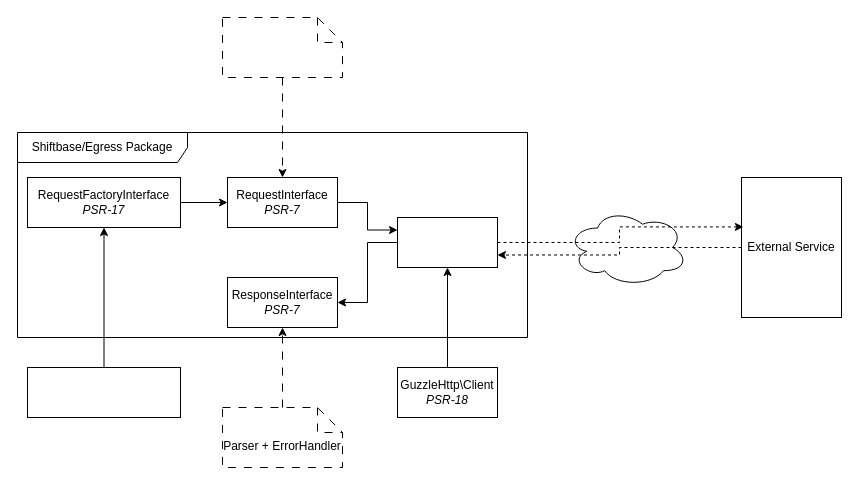
Image size: 859x485. Some labels were removed from this diagram. The centre of each missing label's shape, as x and y in pixels:
"ClientInterface PSR-18" goes at (x=447, y=242).
"Guzzle\RequestFactory PSR-17" goes at (x=103, y=392).
"Serializer" goes at (x=282, y=47).
